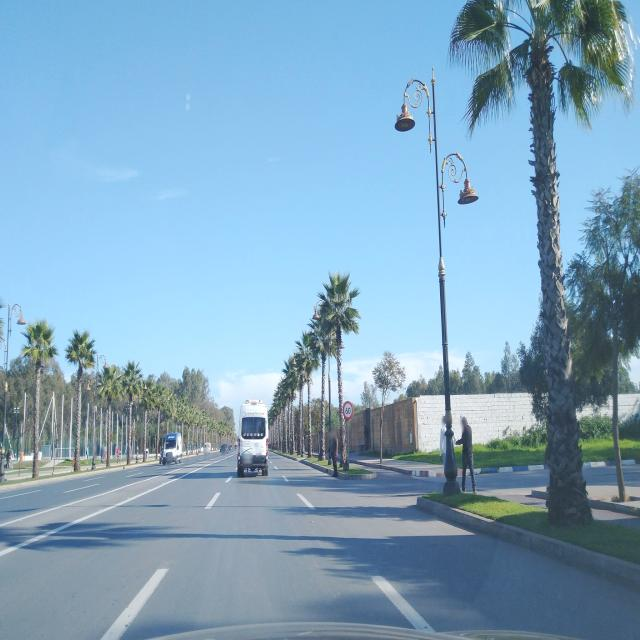car: (236, 400, 268, 478), (158, 432, 182, 465)
